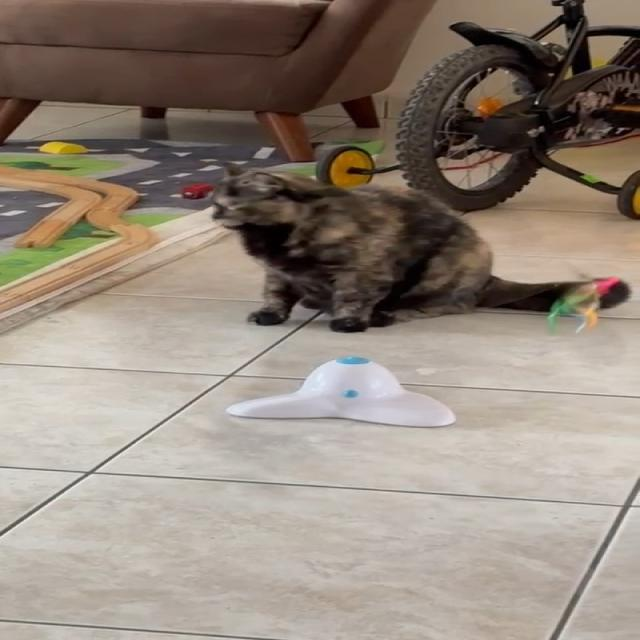authorized: (208, 161, 631, 333)
